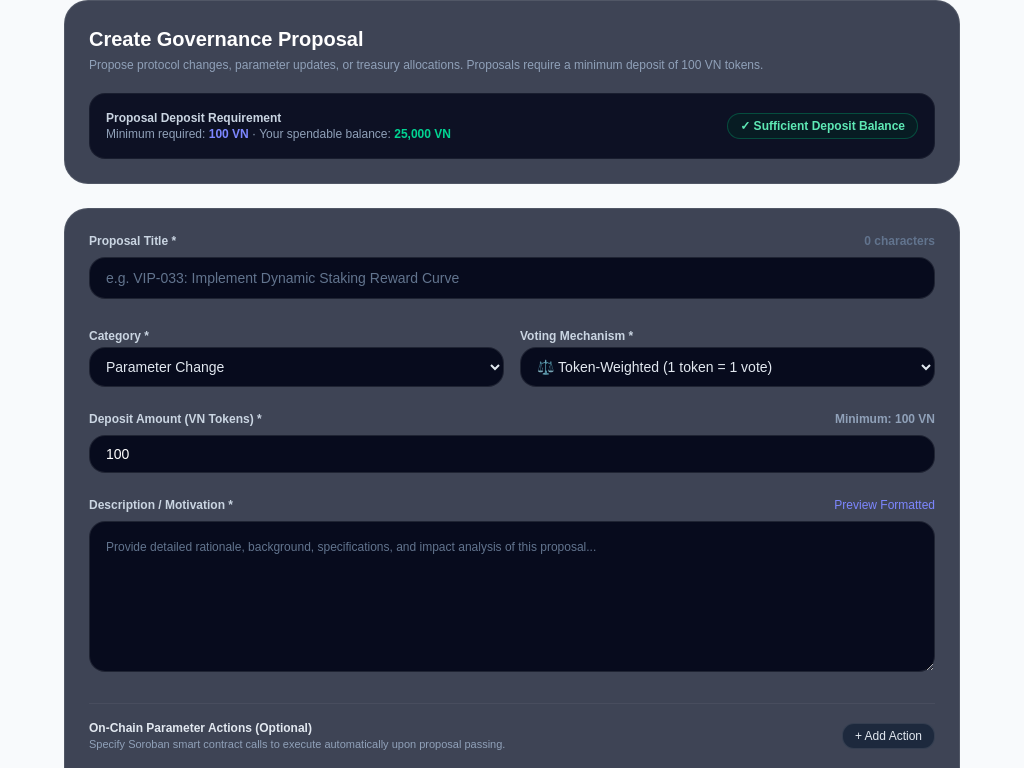
Test: ProposalCreator Component › validates required fields and creates a new proposal
The image size is (1024, 768).
Type "VIP-050: Enhanced Bridge Rate Limiter" into the field labelled "Proposal Title * 0 characters" at x=512, y=278, box [89,257,935,299]
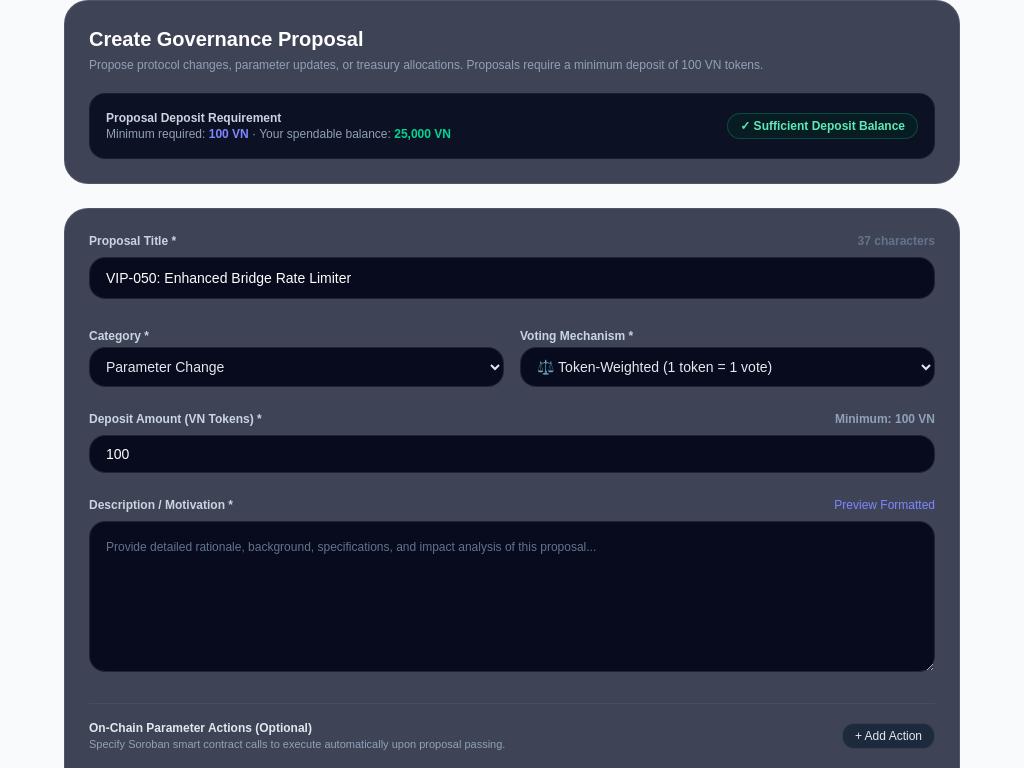
Replace the text in the text box named "Proposal description" with "This proposal configures higher security margins and multi-tier volume checks for bridge operations." at x=512, y=596, box [89,521,935,672]
(page scrolled)
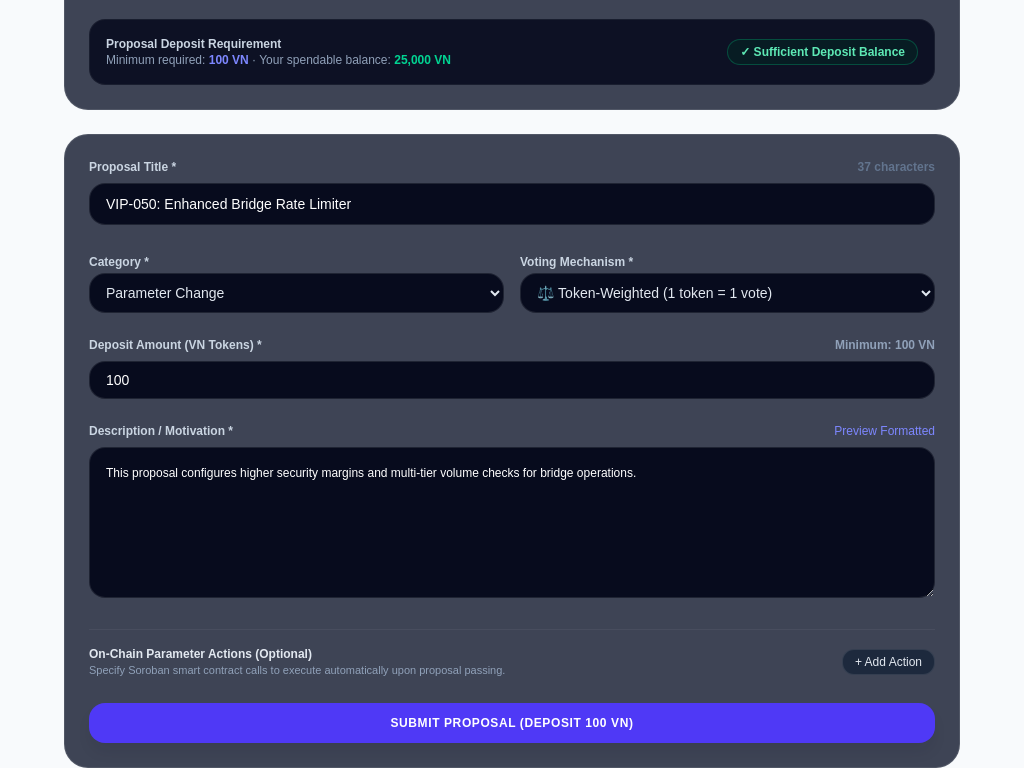
Click the button "Submit Proposal (Deposit 100 VN)" at x=512, y=722, box [89,702,935,742]
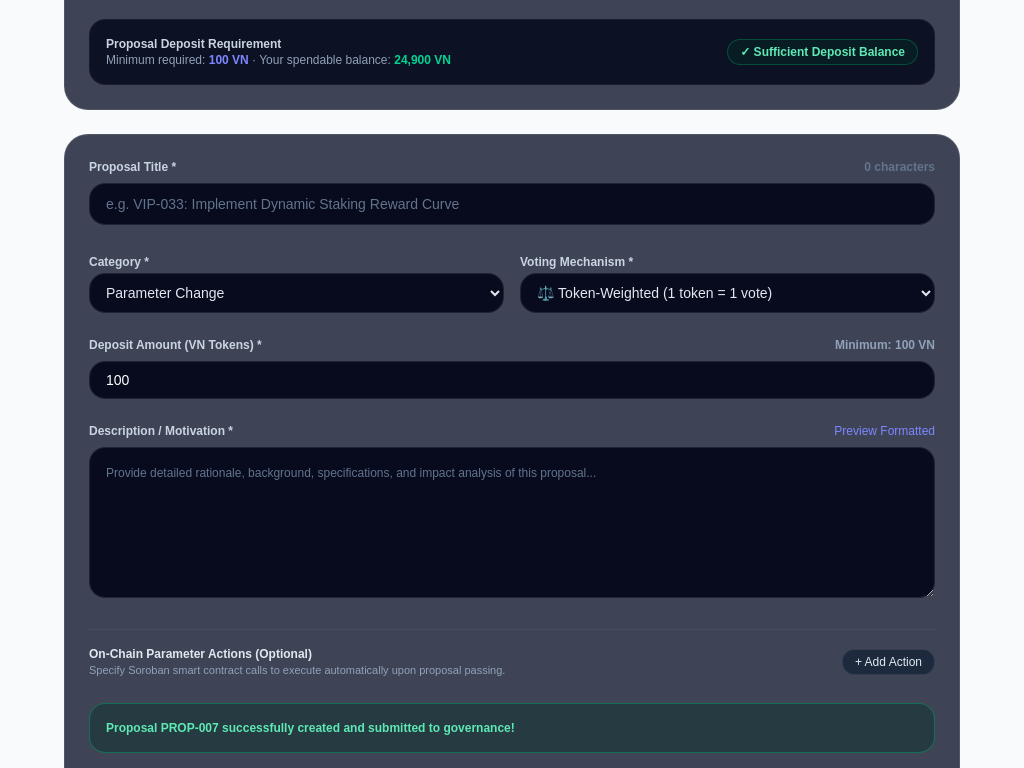
Expected: the text "successfully created and submitted" is shown, [106,720,515,734]
